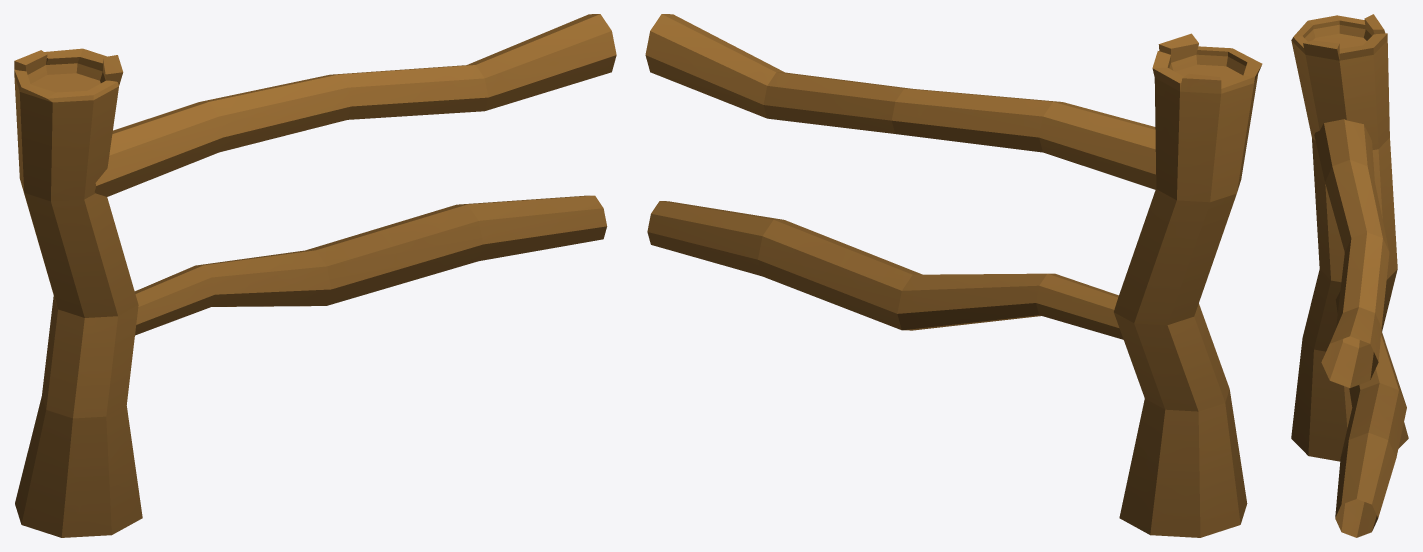
File: Fence001.fbx
The picture shows the model from 3 angles, left to right: view 1: azimuth 30°, elevation 25°; view 2: azimuth 150°, elevation 25°; view 3: azimuth 270°, elevation 25°; orthographic projection. The views are drawn at different scales.
Visible parts, largest first — view 1: Cylinder.004; view 2: Cylinder.004; view 3: Cylinder.004.
Boxes of the visible parts, <box> form: Cylinder.004: <box>14,14,616,537</box>; Cylinder.004: <box>645,14,1262,537</box>; Cylinder.004: <box>1291,14,1408,537</box>.
Bounding box in the file's own units: 289 × 214 × 56.55.
